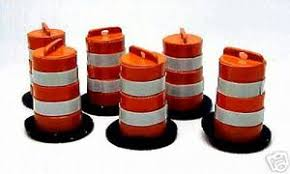barrel: (213, 54, 266, 135), (121, 52, 165, 134), (34, 49, 77, 131), (25, 30, 67, 106), (84, 29, 123, 104), (165, 35, 204, 108)
